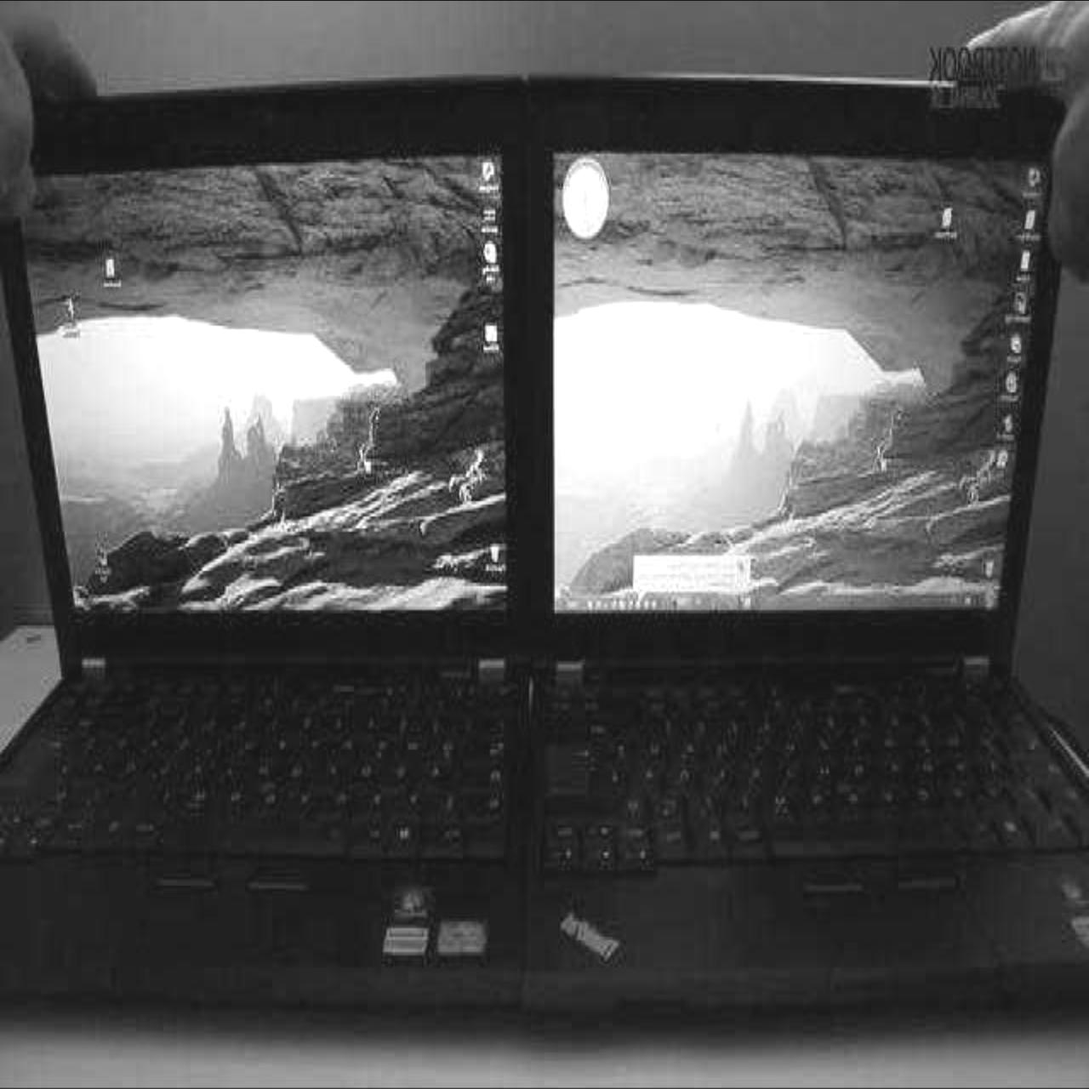laptop: (1, 56, 523, 1040), (521, 104, 1082, 1012)
